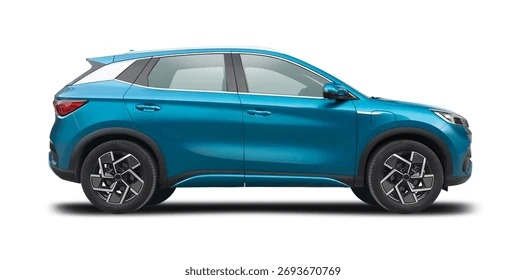car: (42, 45, 482, 218)
